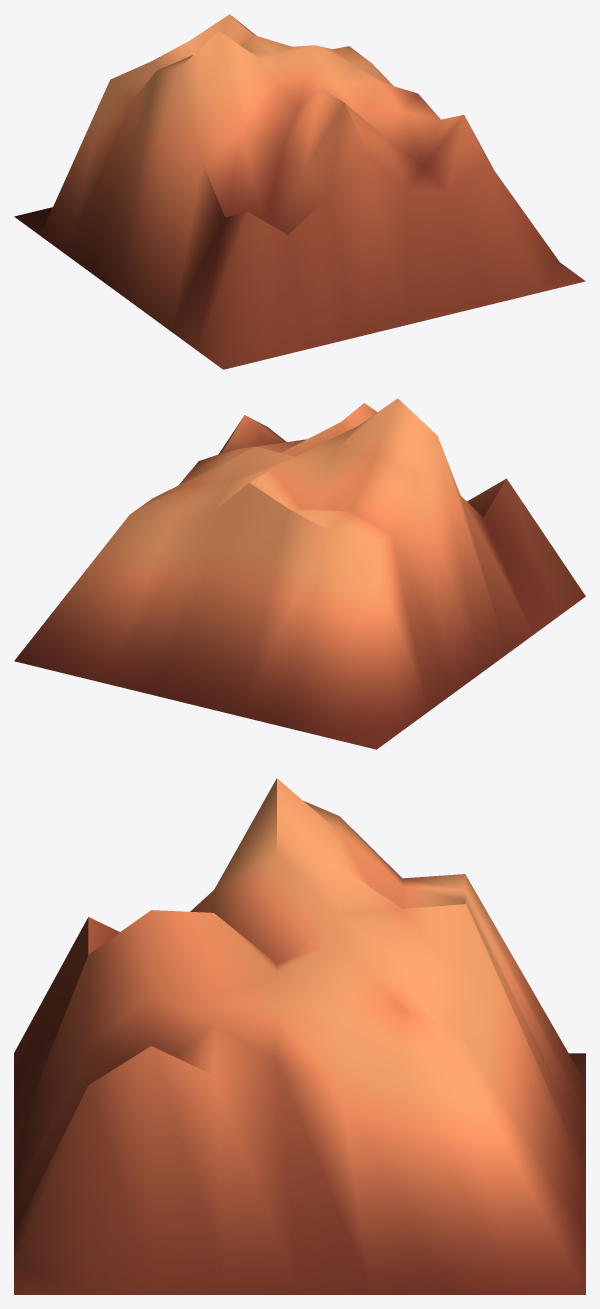
Rendered from Debri.fbx.
The picture shows the model from 3 angles, top to bottom: view 1: azimuth 30°, elevation 25°; view 2: azimuth 150°, elevation 25°; view 3: azimuth 270°, elevation 25°; orthographic projection. The views are drawn at different scales.
Parts seen in each view (by area): view 1: Debri; view 2: Debri; view 3: Debri.
Boxes of the visible parts, x1,y1,x2,y2 form: Debri: (14,14,585,369); Debri: (14,398,585,749); Debri: (14,778,585,1294).
Size of the model in its own units: 21.6 by 14.02 by 21.6.
